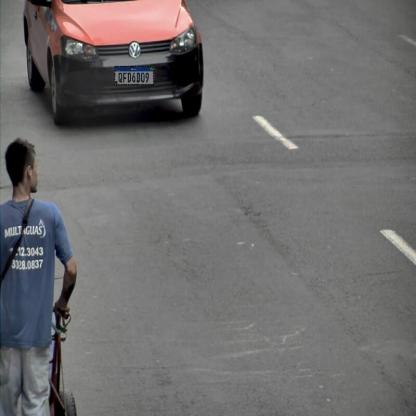PlacaM: (114, 66, 154, 85)
